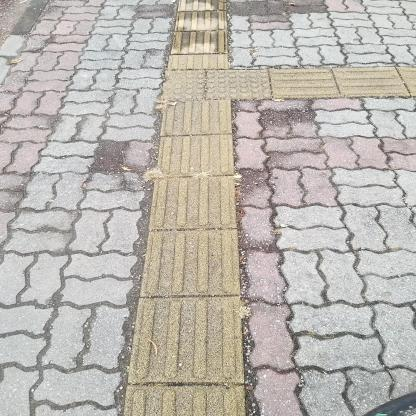podotacti: (110, 0, 253, 415), (223, 60, 416, 105)
